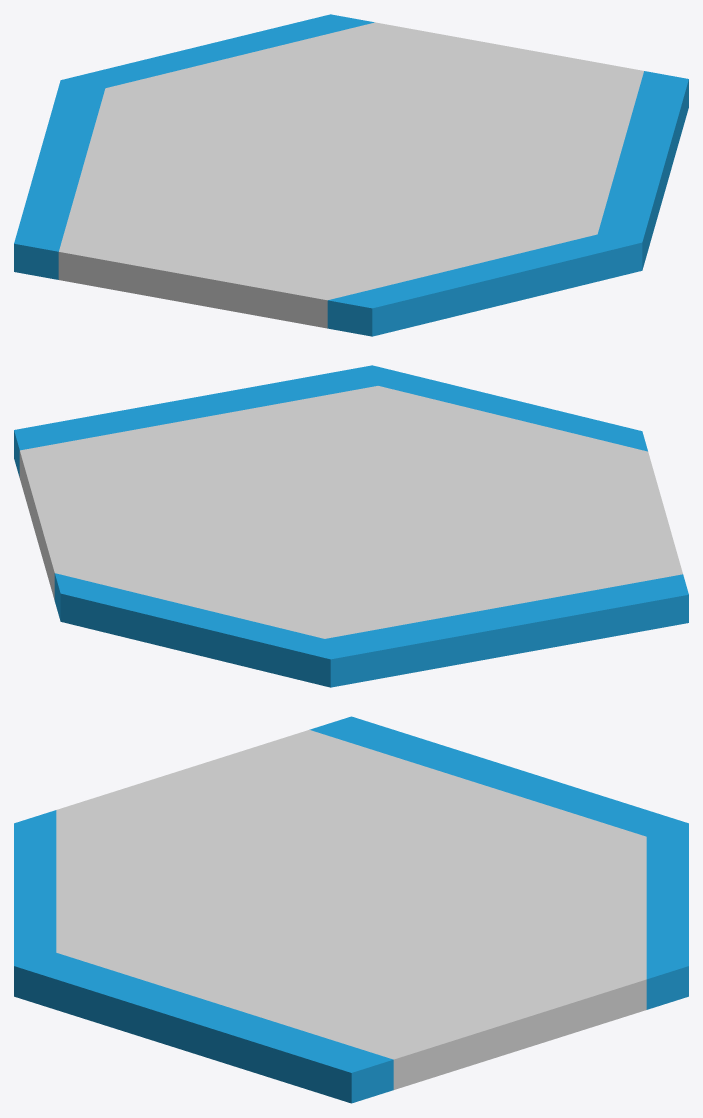
3 views of the same model, one above another, from view 1: azimuth 30°, elevation 25°; view 2: azimuth 150°, elevation 25°; view 3: azimuth 270°, elevation 25° (orthographic). The views are drawn at different scales.
Parts seen in each view (by area): view 1: Hexagon, S, SE, NW, N; view 2: Hexagon, NW, N, SE, S; view 3: Hexagon, SE, NW, N, S.
Part boxes in pixels (box(x1,y1,x2,y2)): Hexagon: box(58, 22, 643, 328); S: box(327, 234, 642, 336); SE: box(598, 71, 688, 269); NW: box(14, 80, 105, 279); N: box(61, 14, 374, 88); Hexagon: box(19, 386, 682, 638); NW: box(325, 574, 688, 687); N: box(54, 573, 330, 687); SE: box(14, 365, 377, 477); S: box(372, 365, 647, 451); Hexagon: box(56, 730, 646, 1089); SE: box(14, 952, 393, 1103); NW: box(309, 716, 688, 836); N: box(646, 823, 688, 1009); S: box(14, 810, 56, 965).
Bounding box in the file's own units: 5 × 4 × 0.2.
